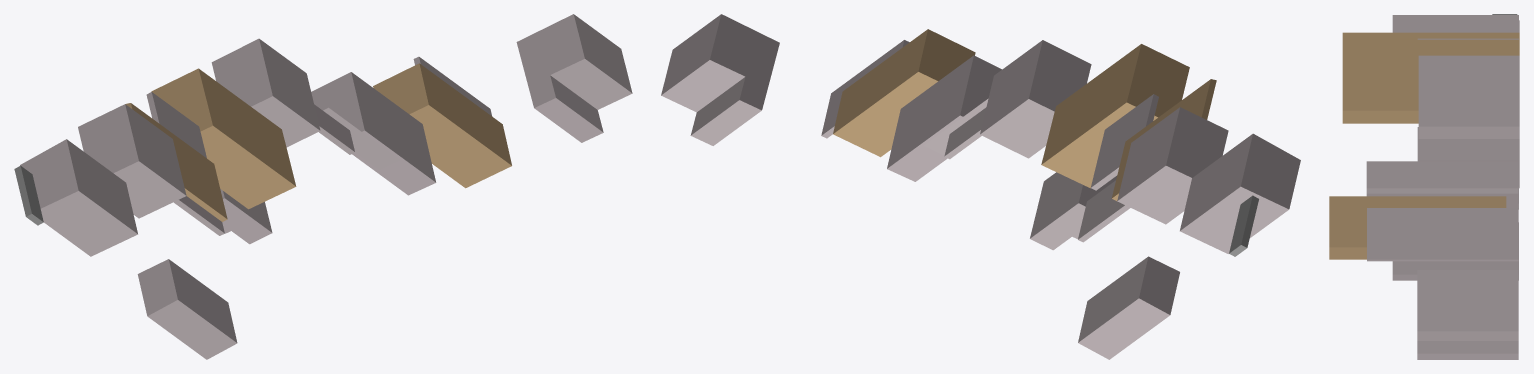
3 renders of one model, left to right at view 1: azimuth 30°, elevation 25°; view 2: azimuth 150°, elevation 25°; view 3: azimuth 270°, elevation 25°, orthographic. The views are drawn at different scales.
Visible parts, largest first — view 1: 0_2_3_2_1_1_3_1; view 2: 0_2_3_2_1_1_3_1; view 3: 0_2_3_2_1_1_3_1.
Boxes of the visible parts, x1,y1,x2,y2 form: 0_2_3_2_1_1_3_1: (14, 14, 632, 359); 0_2_3_2_1_1_3_1: (661, 14, 1300, 359); 0_2_3_2_1_1_3_1: (1329, 14, 1519, 359).
Bounding box in the file's own units: 83.05 × 34.78 × 22.59.
